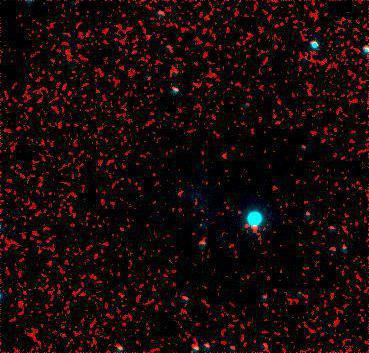star: (210, 142, 240, 172)
